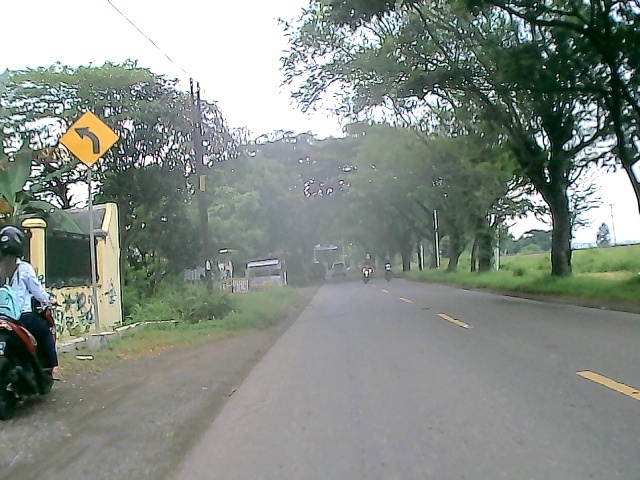Tikungan ke kiri: (58, 110, 124, 169)
